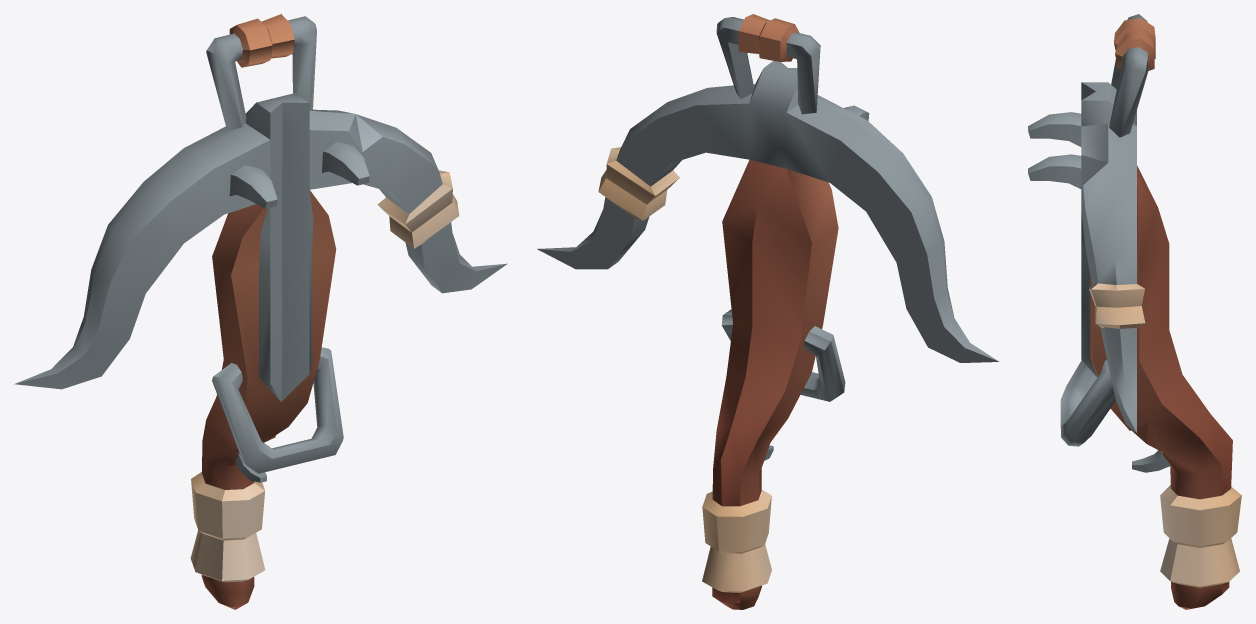
Rendered from hunter_crossbow.glb.
3 renders of one model, left to right at view 1: azimuth 30°, elevation 25°; view 2: azimuth 150°, elevation 25°; view 3: azimuth 270°, elevation 25°, orthographic. The views are drawn at different scales.
Parts seen in each view (by area): view 1: hunter_crossbow; view 2: hunter_crossbow; view 3: hunter_crossbow.
Part boxes in pixels (x1,y1,x2,y2): hunter_crossbow: (14, 14, 507, 609); hunter_crossbow: (537, 14, 998, 609); hunter_crossbow: (1028, 14, 1241, 609).
Size of the model in its own units: 0.6791 by 0.8 by 0.2661.
Materials: 1 (1 with a texture image).
